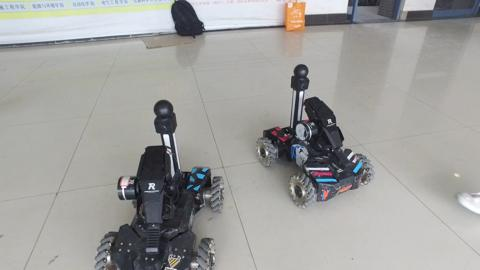chariot: (92, 100, 231, 270), (255, 61, 377, 210)
